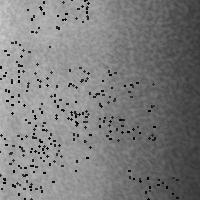pitted_surface: (80, 3, 197, 197), (95, 82, 154, 139), (31, 113, 89, 170), (0, 133, 54, 193), (59, 67, 114, 124), (32, 80, 89, 134), (0, 41, 50, 96), (0, 138, 42, 198), (0, 66, 37, 125), (27, 0, 87, 31), (128, 170, 184, 200)
